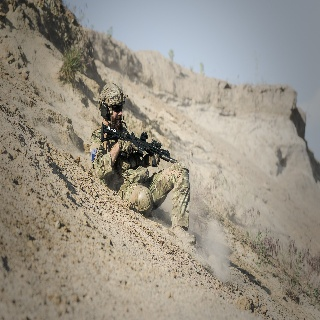rifle: (96, 119, 178, 167)
